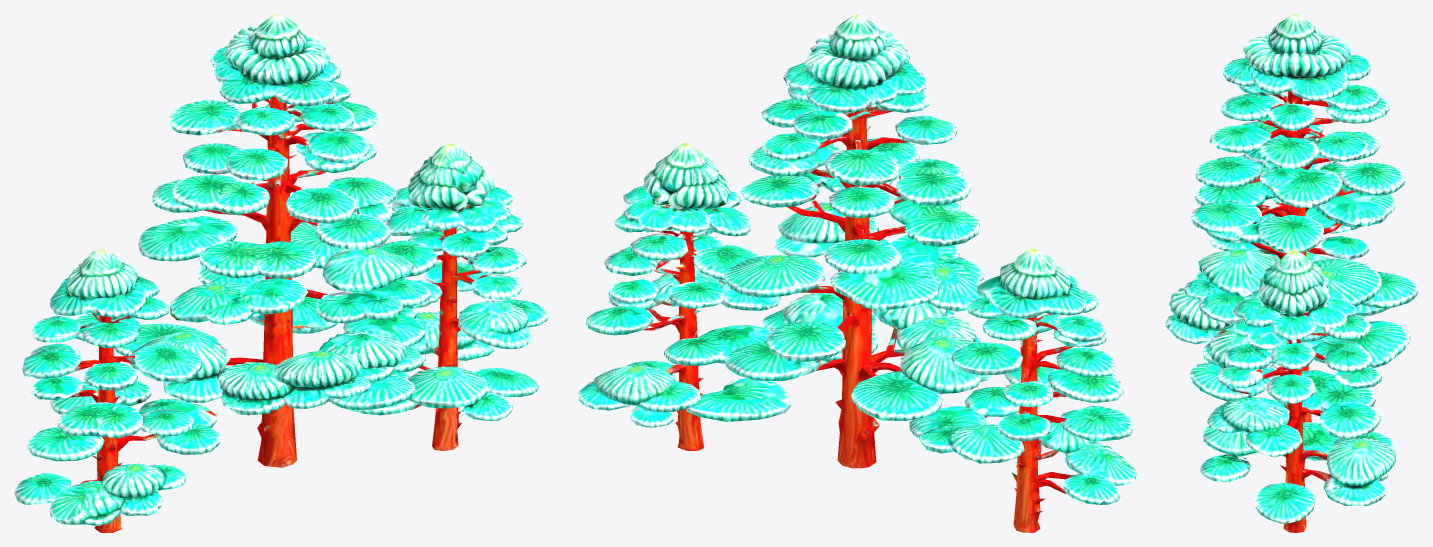
File: ql_pine.glb
3 views of the same model, side by side, from view 1: azimuth 30°, elevation 25°; view 2: azimuth 150°, elevation 25°; view 3: azimuth 270°, elevation 25° (orthographic). The views are drawn at different scales.
Parts seen in each view (by area): view 1: ql_pine; view 2: ql_pine; view 3: ql_pine.
Boxes of the visible parts, bbox=[...] form: ql_pine: bbox=[14, 14, 549, 532]; ql_pine: bbox=[578, 14, 1136, 532]; ql_pine: bbox=[1165, 14, 1418, 532].
Bounding box in the file's own units: 13.74 × 12.01 × 6.3.
1 material, 1 textured.
